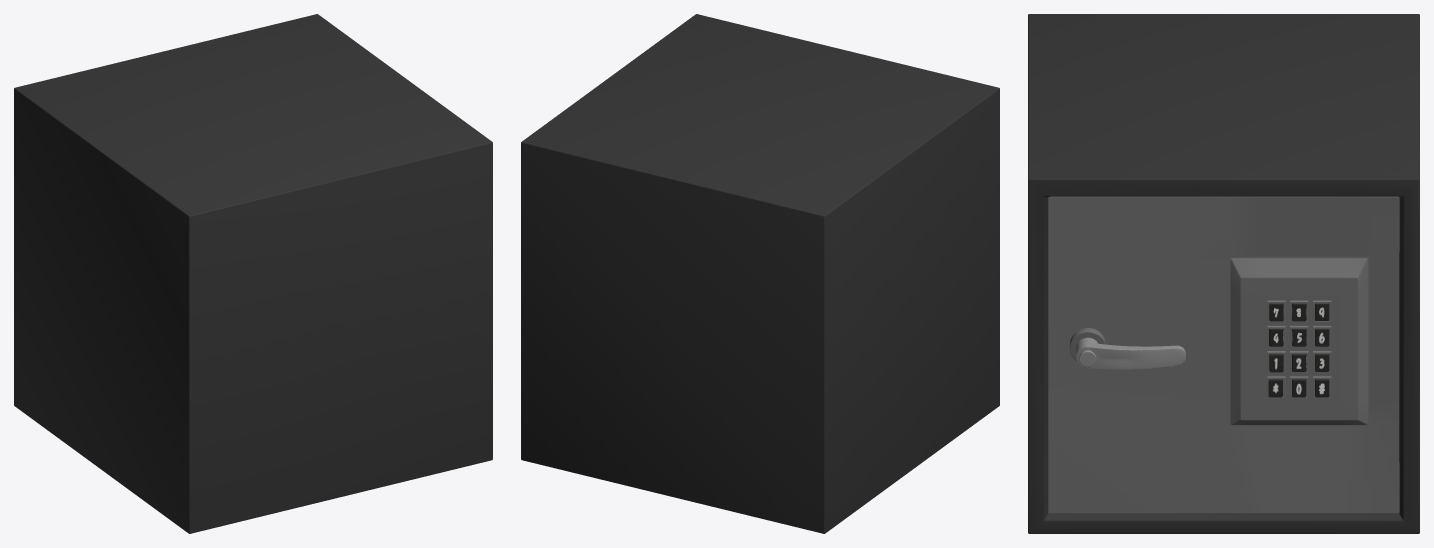
The model's file is Safe Color2.fbx.
3 renders of one model, left to right at view 1: azimuth 30°, elevation 25°; view 2: azimuth 150°, elevation 25°; view 3: azimuth 270°, elevation 25°, orthographic. The views are drawn at different scales.
Parts seen in each view (by area): view 1: Cube; view 2: Cube; view 3: Cube.001, Cube, Cylinder.001.
Boxes of the visible parts, left/top/right/bottom form: Cube: left=14, top=14, right=492, bottom=533; Cube: left=521, top=14, right=999, bottom=533; Cube.001: left=1048, top=196, right=1399, bottom=513; Cube: left=1028, top=14, right=1419, bottom=533; Cylinder.001: left=1076, top=337, right=1185, bottom=369.
Size of the model in its own units: 214 by 200 by 200.
